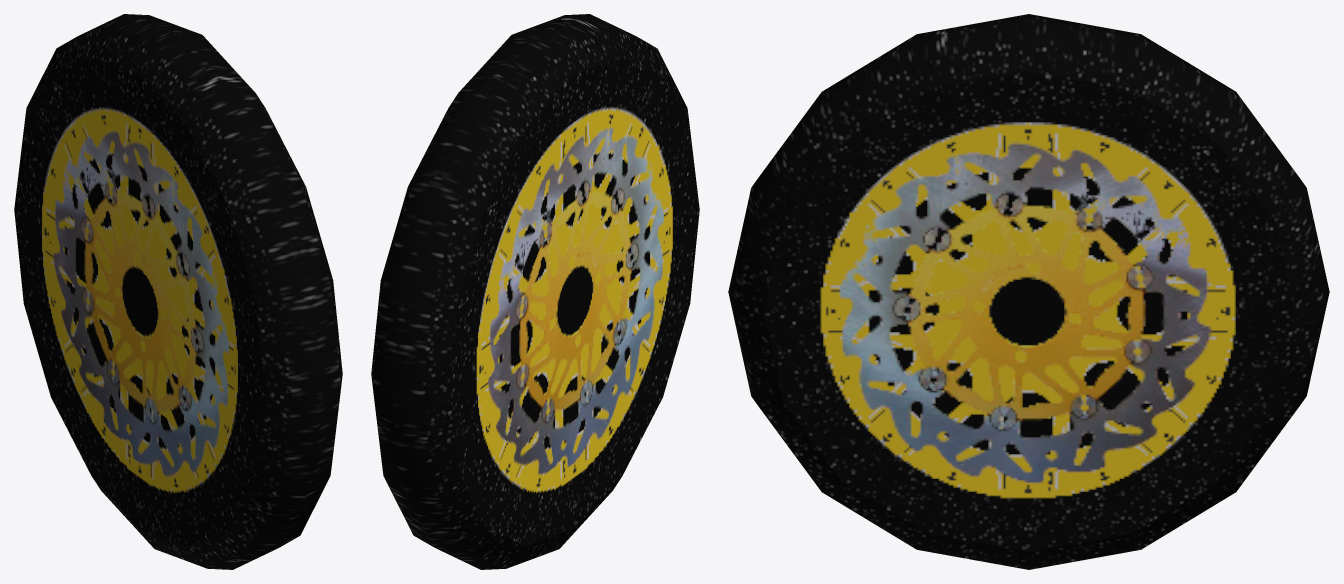
File: bikeFrontWheel.obj
3 views of the same model, side by side, from view 1: azimuth 30°, elevation 25°; view 2: azimuth 150°, elevation 25°; view 3: azimuth 270°, elevation 25° (orthographic). The views are drawn at different scales.
Visible parts, largest first — view 1: FrontWheel_Cylinder.001; view 2: FrontWheel_Cylinder.001; view 3: FrontWheel_Cylinder.001.
Part boxes in pixels (box(x1,y1,x2,y2)): FrontWheel_Cylinder.001: box(14, 14, 342, 569); FrontWheel_Cylinder.001: box(371, 14, 699, 569); FrontWheel_Cylinder.001: box(728, 14, 1329, 569).
Bounding box in the file's own units: 0.3 × 1.9 × 1.9.
Materials: 1 (1 with a texture image).
